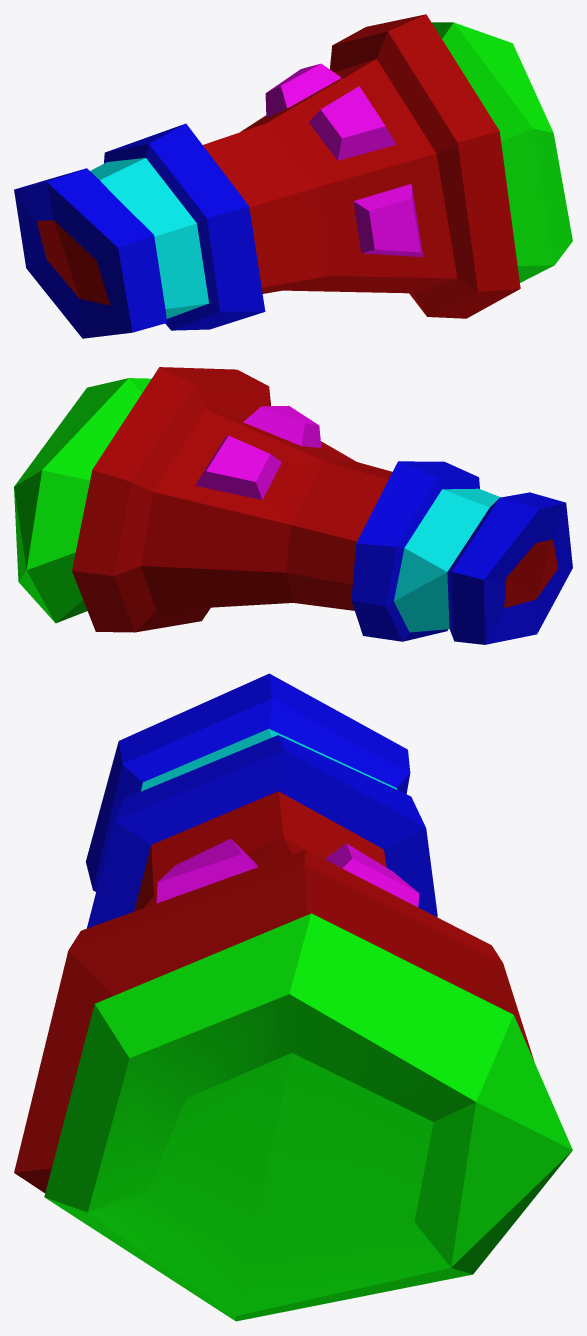
Rendered from Chr_ArmLowerRight_Male_Static_15.fbx.
3 views of the same model, one above another, from view 1: azimuth 30°, elevation 25°; view 2: azimuth 150°, elevation 25°; view 3: azimuth 270°, elevation 25° (orthographic). The views are drawn at different scales.
Visible parts, largest first — view 1: Chr_ArmLowerRight_Male_15; view 2: Chr_ArmLowerRight_Male_15; view 3: Chr_ArmLowerRight_Male_15.
Part boxes in pixels (x1,y1,x2,y2): Chr_ArmLowerRight_Male_15: [14, 14, 572, 338]; Chr_ArmLowerRight_Male_15: [14, 367, 572, 644]; Chr_ArmLowerRight_Male_15: [14, 673, 572, 1321].
Bounding box in the file's own units: 30.02 × 16.9 × 19.52.
